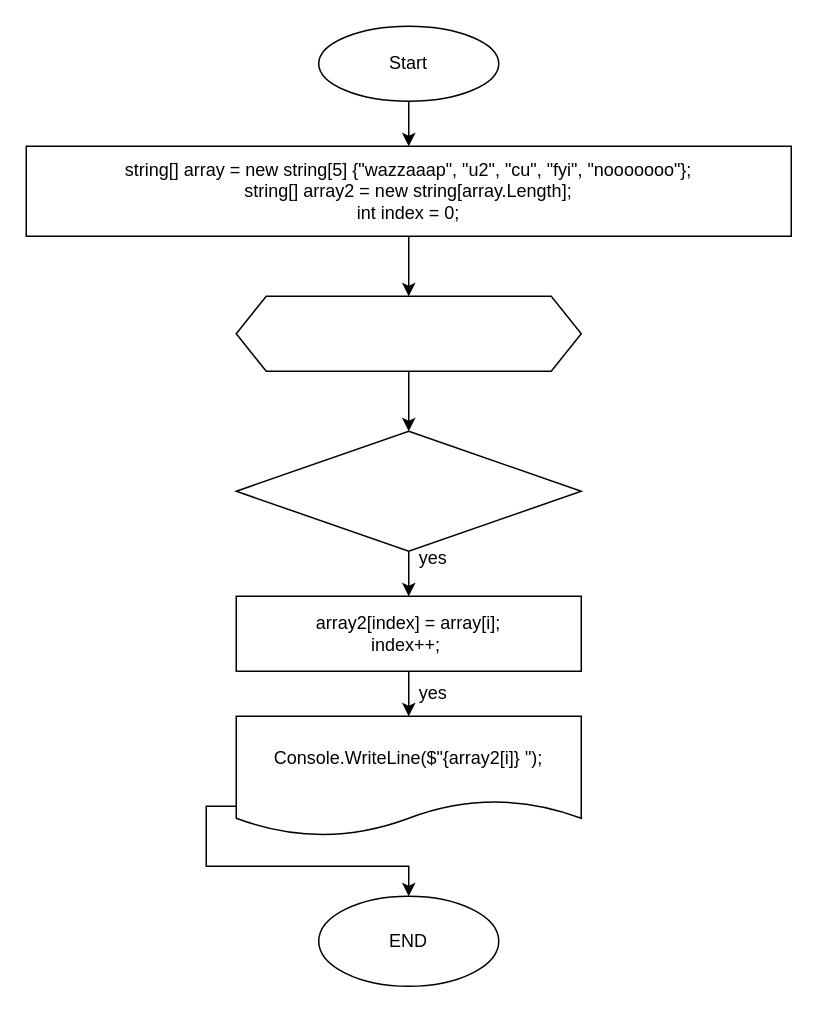
Image size: 818x1013. Some labels were removed from this diagram. The centre of each missing label's shape, as x and y in pixels:
"for (int i = 0; i < array.Length; i++)" belongs at point (408, 333).
"if(array[i].Length <= 3)" belongs at point (408, 490).
